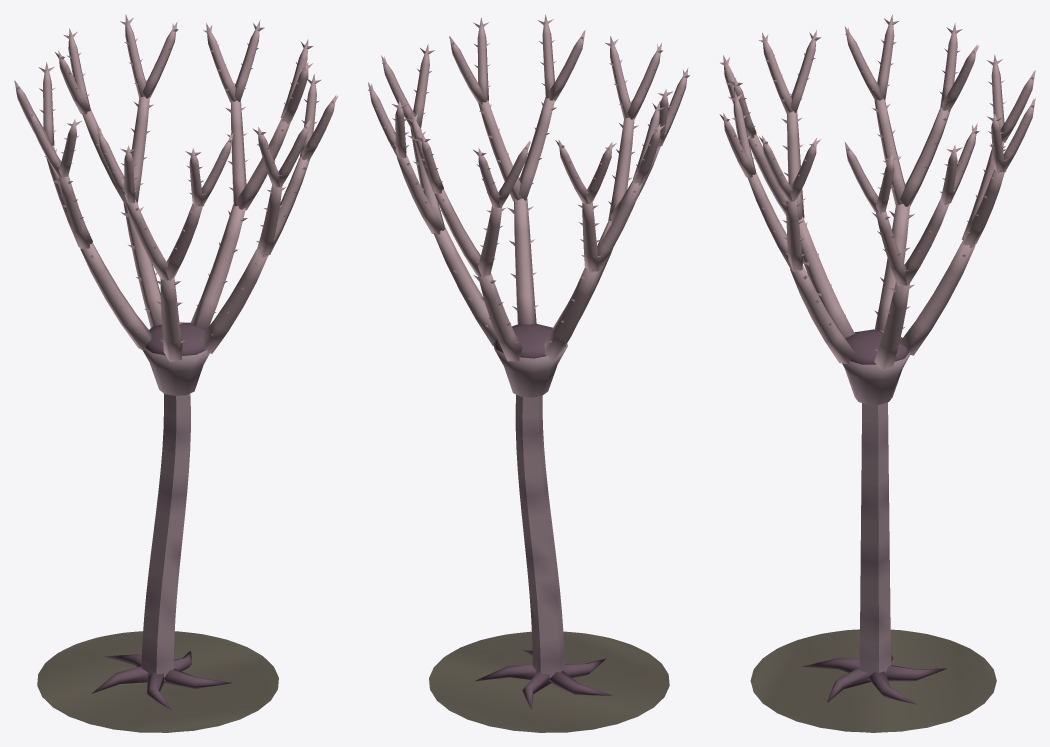
Rendered from IocrinusSubcrassus.fbx.
The picture shows the model from 3 angles, left to right: view 1: azimuth 30°, elevation 25°; view 2: azimuth 150°, elevation 25°; view 3: azimuth 270°, elevation 25°; orthographic projection. The views are drawn at different scales.
Parts seen in each view (by area): view 1: IocrinusSubcrassus; view 2: IocrinusSubcrassus; view 3: IocrinusSubcrassus.
Boxes of the visible parts, x1,y1,x2,y2 form: IocrinusSubcrassus: [14, 14, 338, 732]; IocrinusSubcrassus: [368, 14, 689, 732]; IocrinusSubcrassus: [719, 14, 1035, 732].
Bounding box in the file's own units: 0.9421 × 1.9 × 0.9002.
